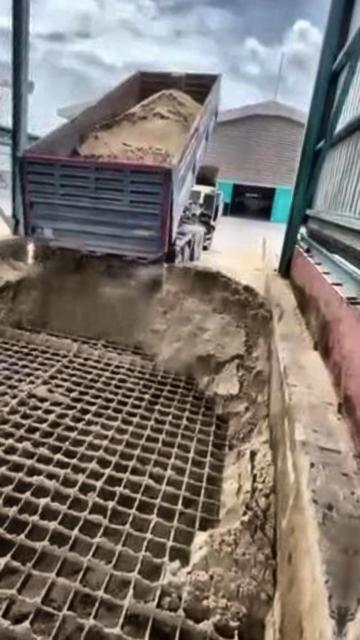sand: (0, 253, 274, 640), (79, 90, 200, 164)
